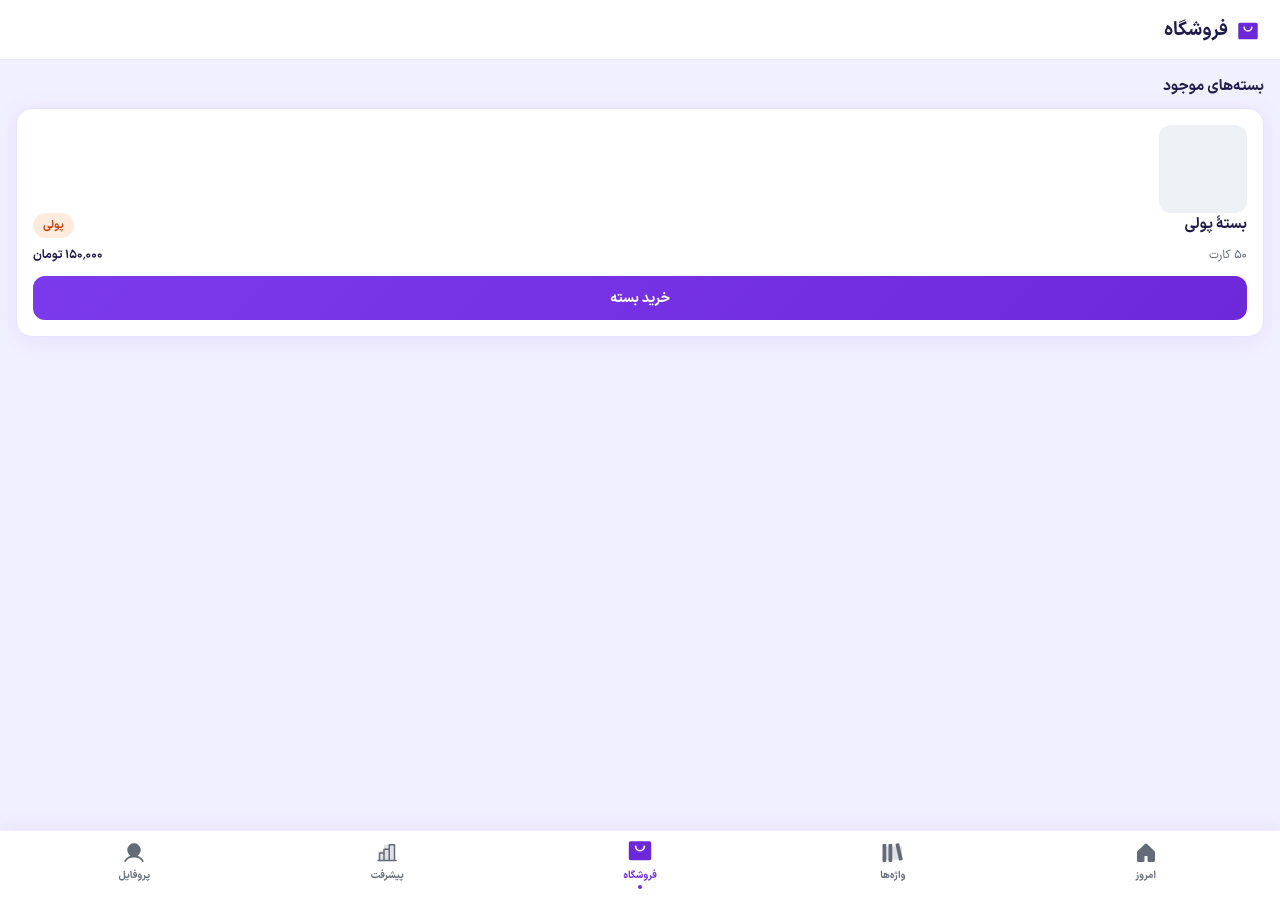
Test: M2.4 Store purchase CTA › reports an unavailable gateway without redirecting anywhere
Step 1. Click the button "خرید بسته" → [640, 298], box [33,276,1247,320]
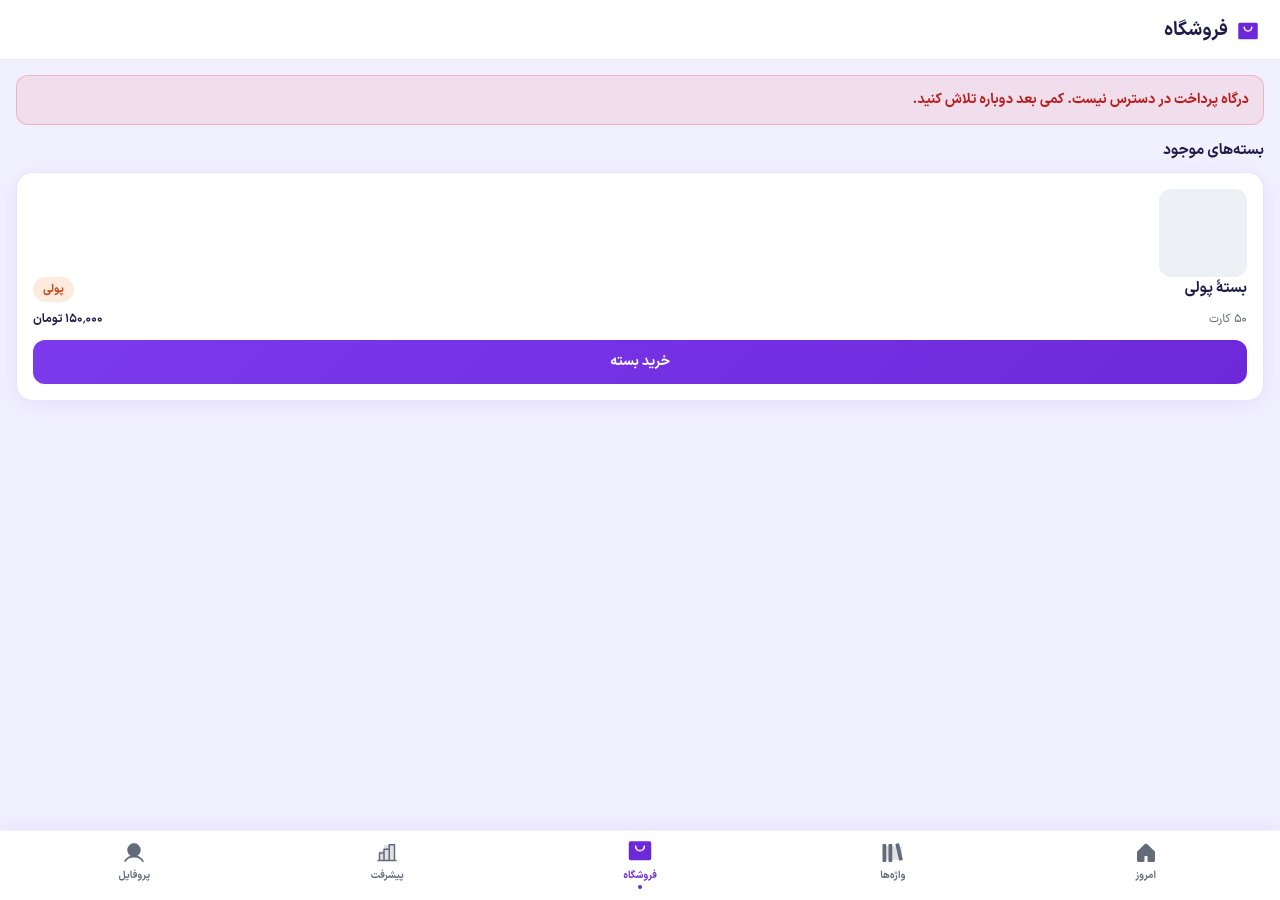
Check: the text "درگاه پرداخت در دسترس نیست" is shown, box [912,89,1249,110]
